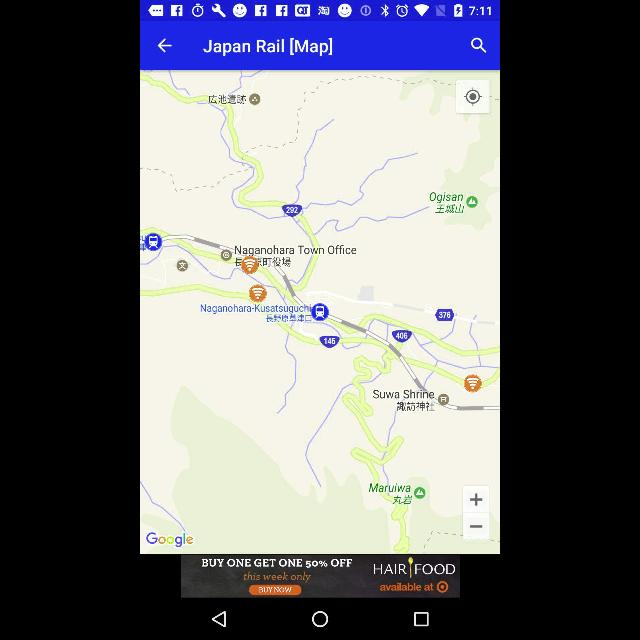icon: (310, 610, 328, 628), (212, 612, 228, 628), (471, 36, 485, 54), (412, 613, 430, 627), (157, 39, 171, 53)
iframe: (140, 554, 500, 600)
map: (140, 69, 500, 553)
panel: (141, 601, 499, 639)
text: (204, 40, 332, 54)
toolbar: (140, 20, 500, 70)
uppertaskbar: (140, 1, 500, 20)
